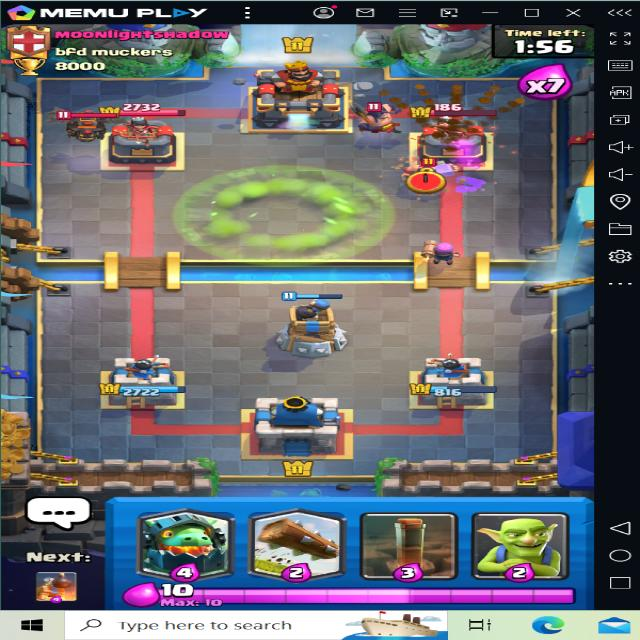executioner: (348, 98, 412, 137)
goblin-curse: (171, 162, 397, 268)
lava-hound: (52, 106, 112, 144)
lumberjack: (394, 156, 462, 188)
